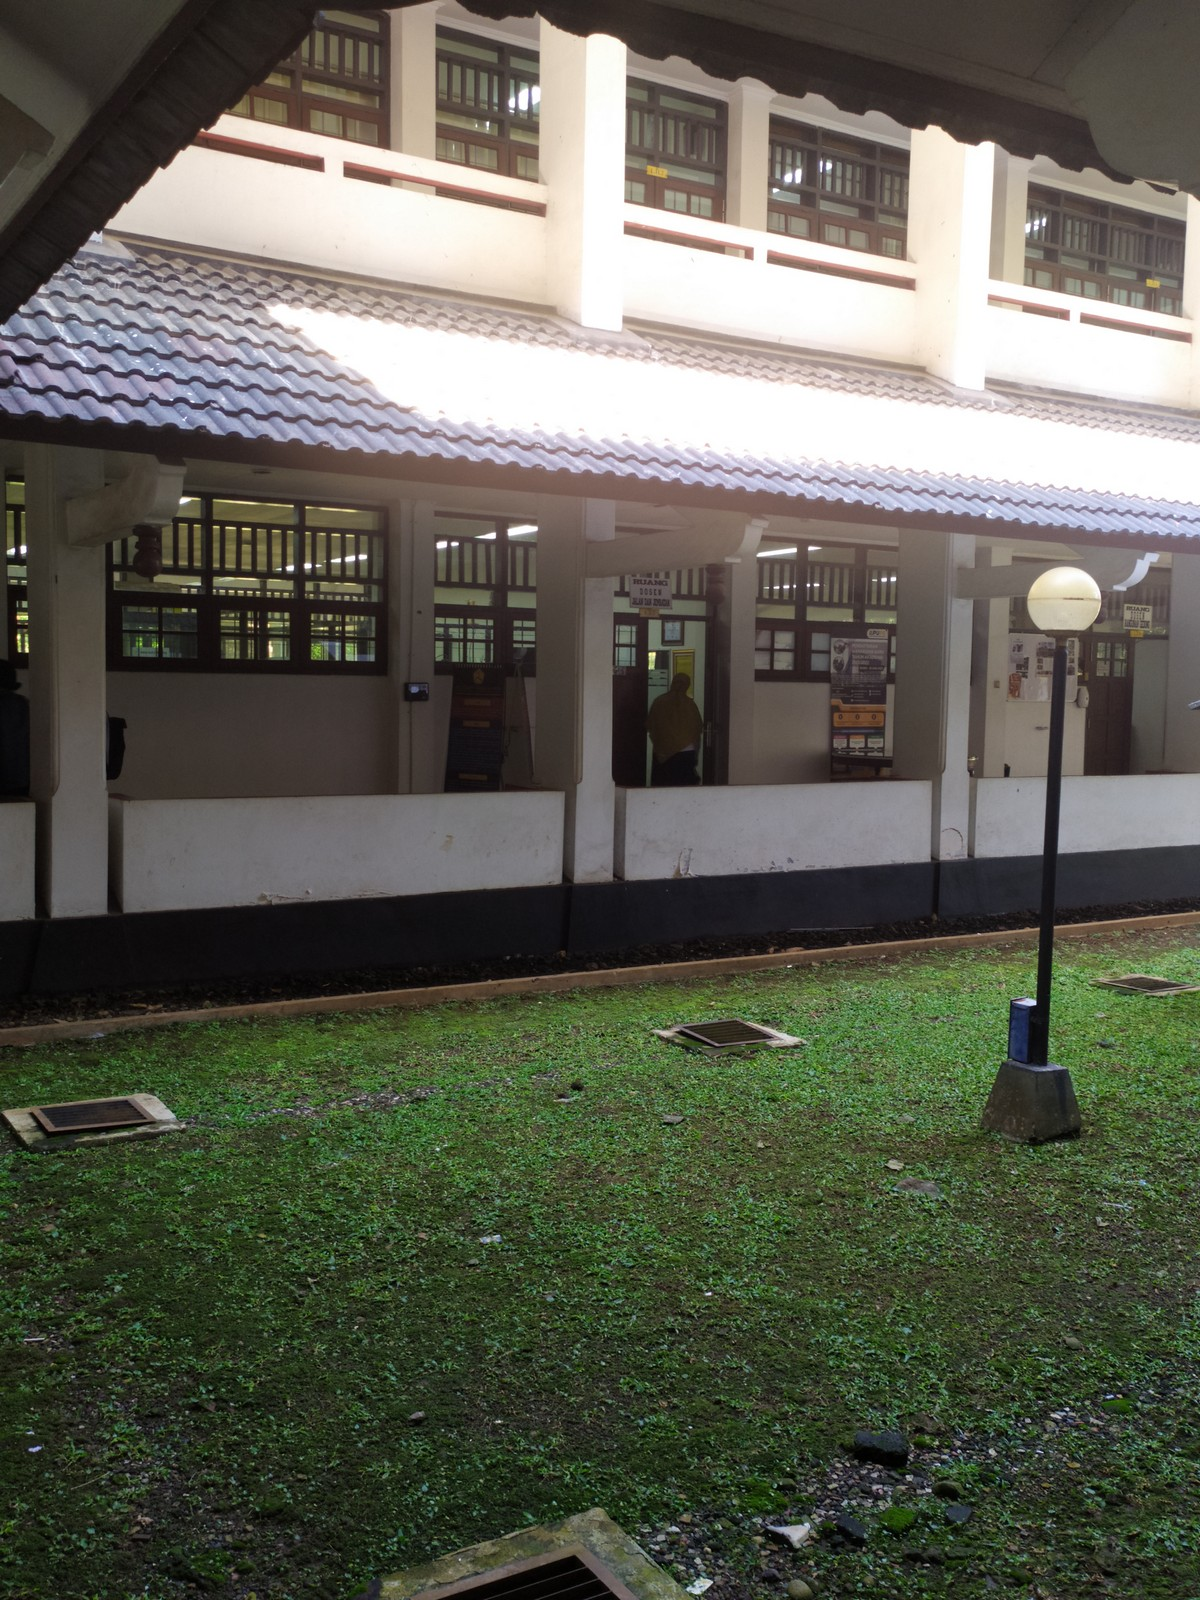concrete beam: (574, 528, 718, 583), (55, 483, 149, 558)
concrete column: (25, 477, 118, 932), (532, 515, 629, 898), (894, 551, 984, 888), (536, 31, 634, 343), (901, 141, 998, 401)
